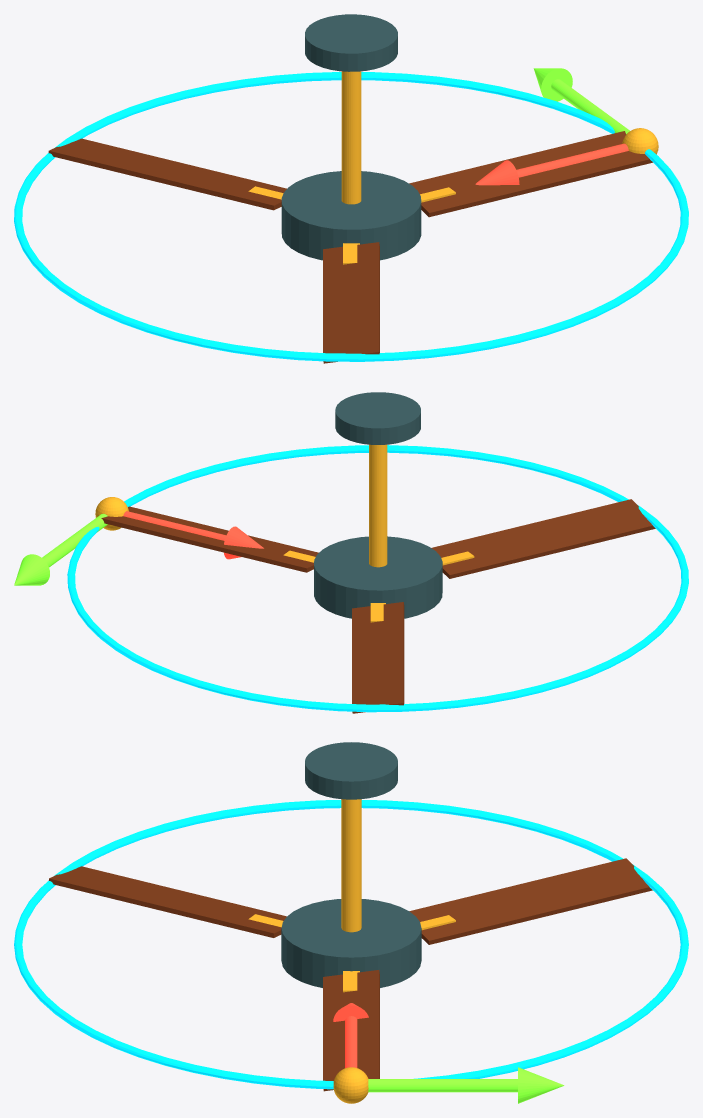
The model's file is bai5_chuyen_dong_tron.glb.
The picture shows the model from 3 angles, top to bottom: view 1: azimuth 30°, elevation 25°; view 2: azimuth 150°, elevation 25°; view 3: azimuth 270°, elevation 25°; orthographic projection. The views are drawn at different scales.
Parts seen in each view (by area): view 1: Hình Xuyến, Fan_Rotor_Hub, Khối Lập Phương.001, Khối Lập Phương.005, Khối Lập Phương.003, Hình Trụ, Hình Trụ.001, Hình Trụ.003, Hình Trụ.002, Hình Nón, Hình Cầu, Hình Nón.001; view 2: Hình Xuyến, Fan_Rotor_Hub, Khối Lập Phương.005, Khối Lập Phương.003, Hình Trụ, Khối Lập Phương.001, Hình Trụ.001, Hình Nón, Hình Trụ.002, Hình Trụ.003, Hình Cầu, Hình Nón.001; view 3: Hình Xuyến, Fan_Rotor_Hub, Khối Lập Phương.003, Khối Lập Phương.005, Hình Trụ, Khối Lập Phương.001, Hình Trụ.001, Hình Trụ.002, Hình Cầu, Hình Nón, Hình Trụ.003.
Boxes of the visible parts, left/top/right/bottom form: Hình Xuyến: left=14, top=72, right=688, bottom=361; Fan_Rotor_Hub: left=281, top=171, right=421, bottom=260; Khối Lập Phương.001: left=409, top=131, right=652, bottom=217; Khối Lập Phương.005: left=323, top=242, right=379, bottom=363; Khối Lập Phương.003: left=48, top=138, right=286, bottom=210; Hình Trụ: left=305, top=14, right=397, bottom=71; Hình Trụ.001: left=341, top=71, right=361, bottom=204; Hình Trụ.003: left=516, top=143, right=628, bottom=177; Hình Trụ.002: left=551, top=79, right=629, bottom=134; Hình Nón: left=533, top=68, right=572, bottom=101; Hình Cầu: left=622, top=128, right=658, bottom=154; Hình Nón.001: left=475, top=160, right=519, bottom=185; Hình Xuyến: left=67, top=445, right=688, bottom=712; Fan_Rotor_Hub: left=314, top=536, right=442, bottom=618; Khối Lập Phương.005: left=431, top=499, right=655, bottom=578; Khối Lập Phương.003: left=352, top=602, right=404, bottom=713; Hình Trụ: left=335, top=392, right=420, bottom=444; Khối Lập Phương.001: left=101, top=506, right=318, bottom=572; Hình Trụ.001: left=369, top=444, right=387, bottom=567; Hình Nón: left=14, top=554, right=49, bottom=585; Hình Trụ.002: left=42, top=513, right=107, bottom=567; Hình Trụ.003: left=123, top=511, right=226, bottom=540; Hình Cầu: left=95, top=497, right=128, bottom=530; Hình Nón.001: left=224, top=526, right=263, bottom=559; Hình Xuyến: left=14, top=800, right=688, bottom=1089; Fan_Rotor_Hub: left=281, top=899, right=421, bottom=987; Khối Lập Phương.003: left=409, top=858, right=652, bottom=944; Khối Lập Phương.005: left=48, top=866, right=286, bottom=937; Hình Trụ: left=305, top=742, right=397, bottom=799; Khối Lập Phương.001: left=323, top=970, right=379, bottom=1091; Hình Trụ.001: left=341, top=799, right=361, bottom=932; Hình Trụ.002: left=368, top=1079, right=517, bottom=1092; Hình Cầu: left=333, top=1067, right=368, bottom=1103; Hình Nón: left=518, top=1067, right=564, bottom=1103; Hình Trụ.003: left=345, top=1016, right=357, bottom=1068.
Size of the model in its own units: 4.14 by 1.32 by 4.05.
